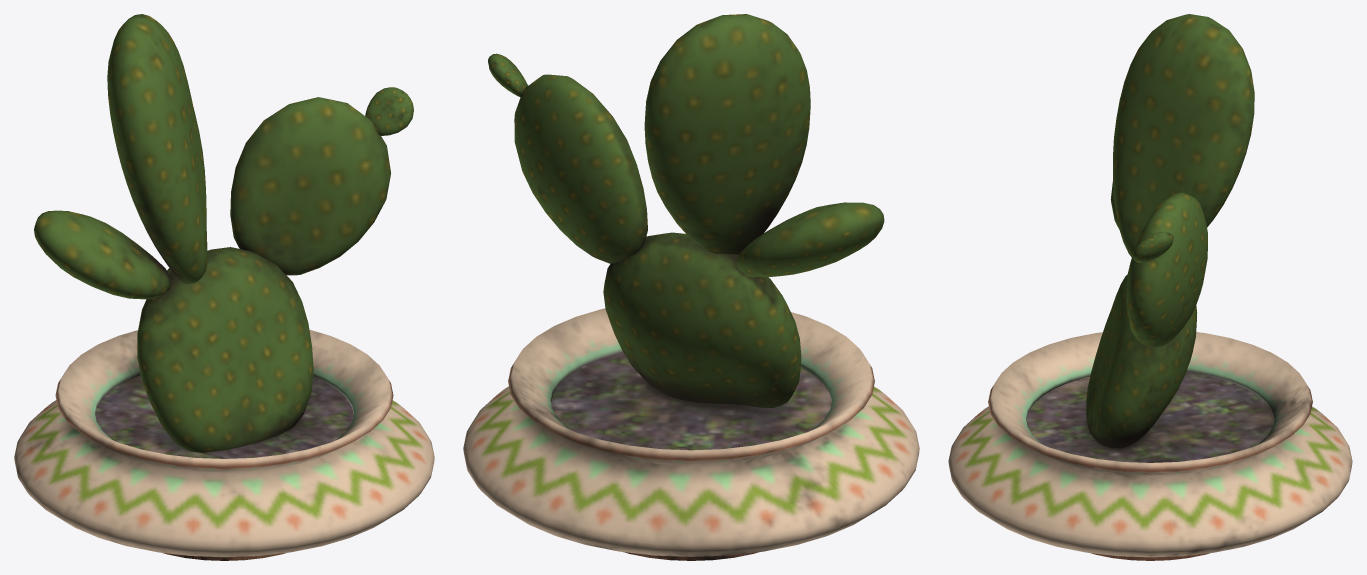
The model's file is stylize-cactus-bf7720.glb.
3 renders of one model, left to right at view 1: azimuth 30°, elevation 25°; view 2: azimuth 150°, elevation 25°; view 3: azimuth 270°, elevation 25°, orthographic. The views are drawn at different scales.
Parts seen in each view (by area): view 1: PropMesh; view 2: PropMesh; view 3: PropMesh.
Part boxes in pixels (x1,y1,x2,y2): PropMesh: [14, 14, 434, 560]; PropMesh: [463, 14, 919, 560]; PropMesh: [948, 14, 1352, 560].
Size of the model in its own units: 0.3539 by 0.45 by 0.3506.
Materials: 1 (1 with a texture image).
